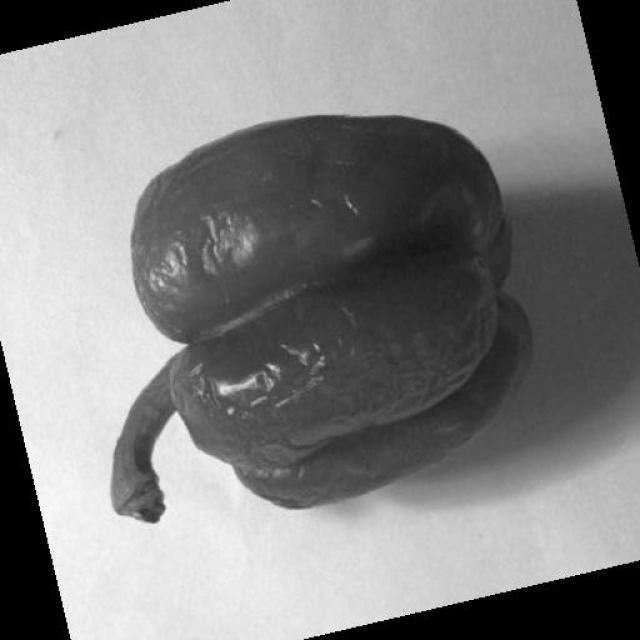Stale_Capsicum: (122, 114, 540, 511)
